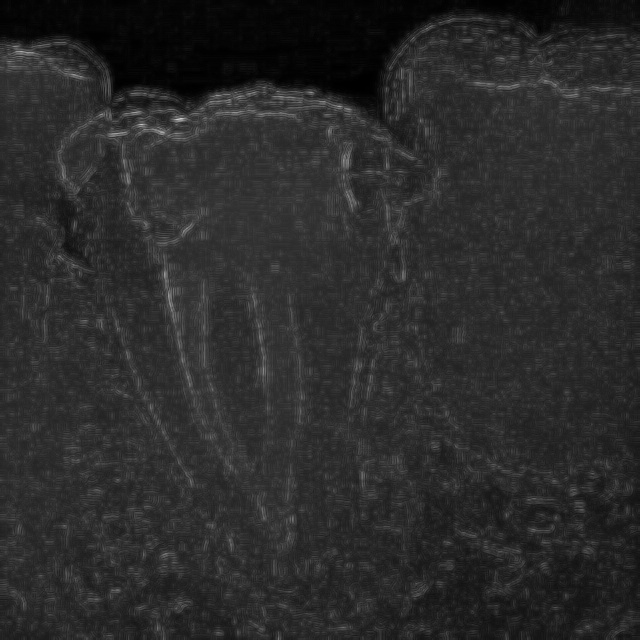Class 0- No endodontic treatment: (44, 69, 444, 622)
